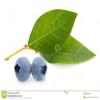Blueberry leaf: (28, 8, 80, 55), (42, 34, 98, 66)
